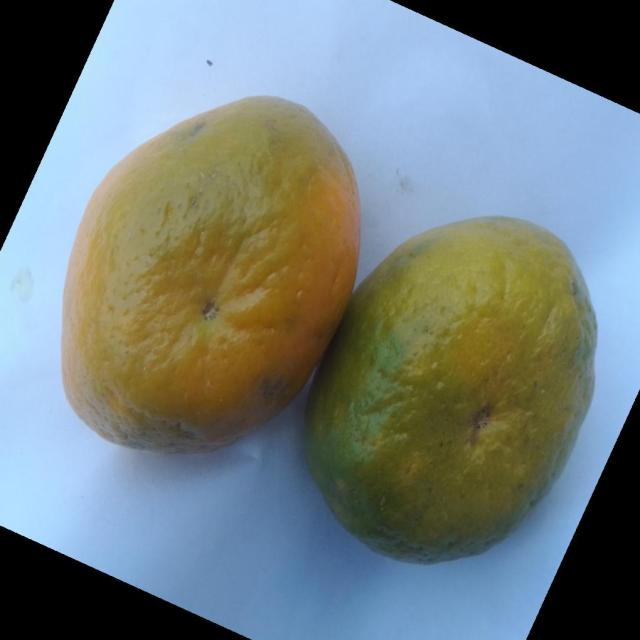fresh orange: (60, 93, 362, 454), (303, 213, 598, 565)
